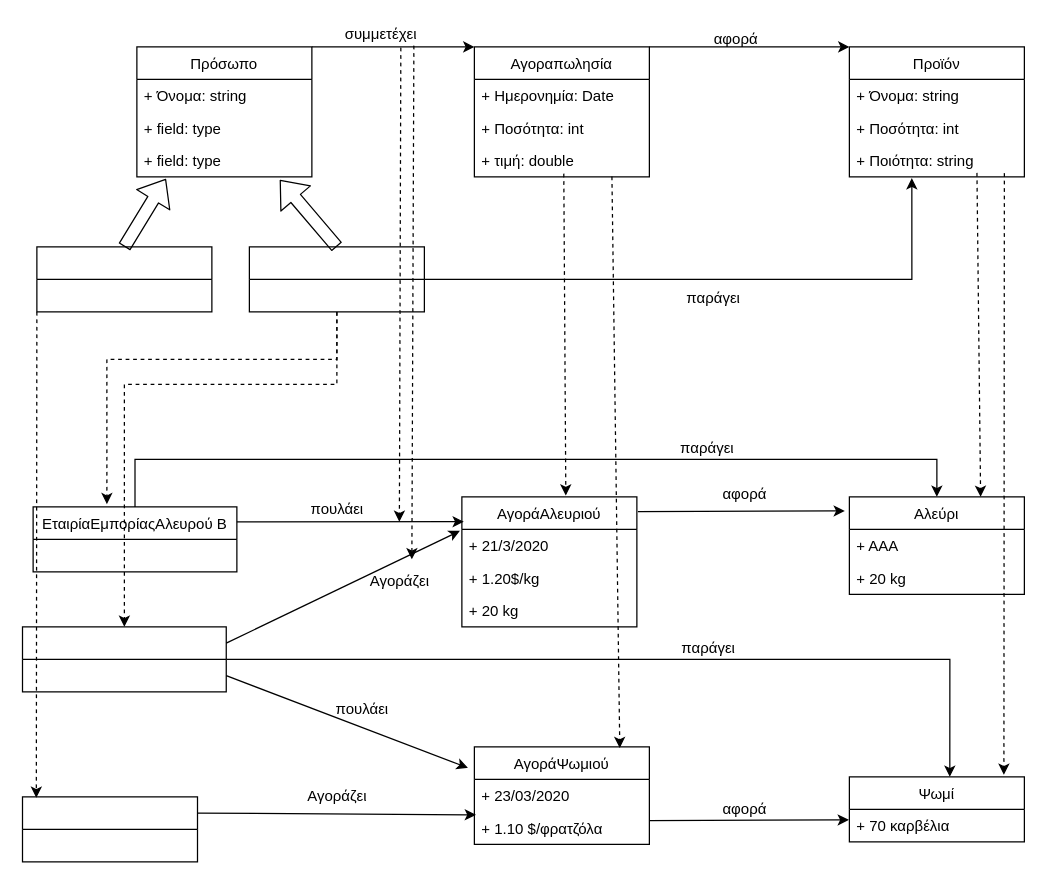
This 1046x884 diagram has some shape labels left out. The shapes that lost their labels are listed below. From the top down, each one's centre as x and y in pixels, then its label:
At (x=124, y=279): "Αγοραστής".
At (x=336, y=279): "Προμηθευτής".
At (x=123, y=659): "ΦούρναρηςΑ".
At (x=109, y=829): "Πελάτες".
